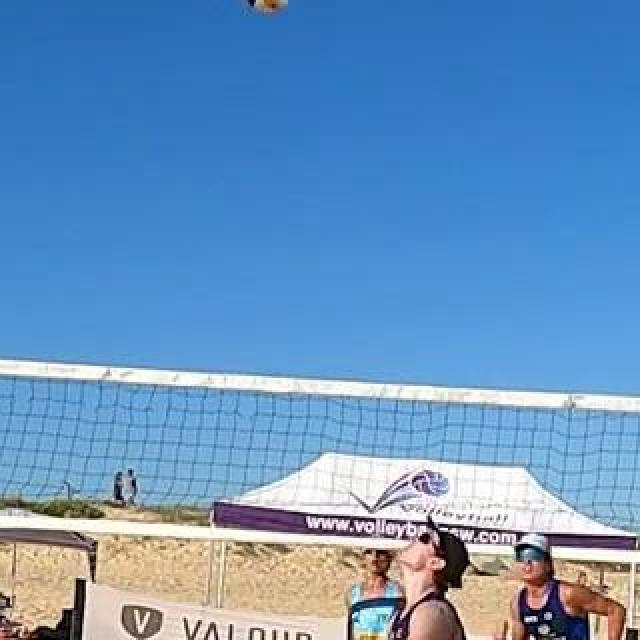volleyball: (247, 0, 291, 12)
